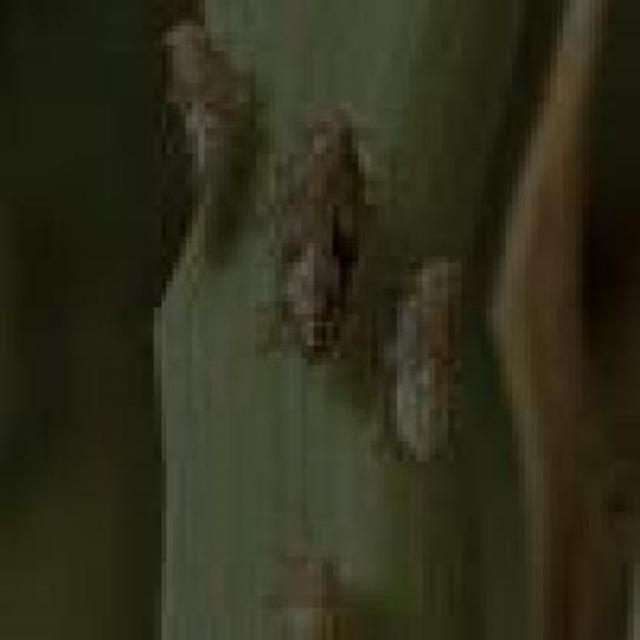brown-planthopper: (263, 109, 374, 368), (158, 21, 251, 268), (381, 256, 477, 464)
